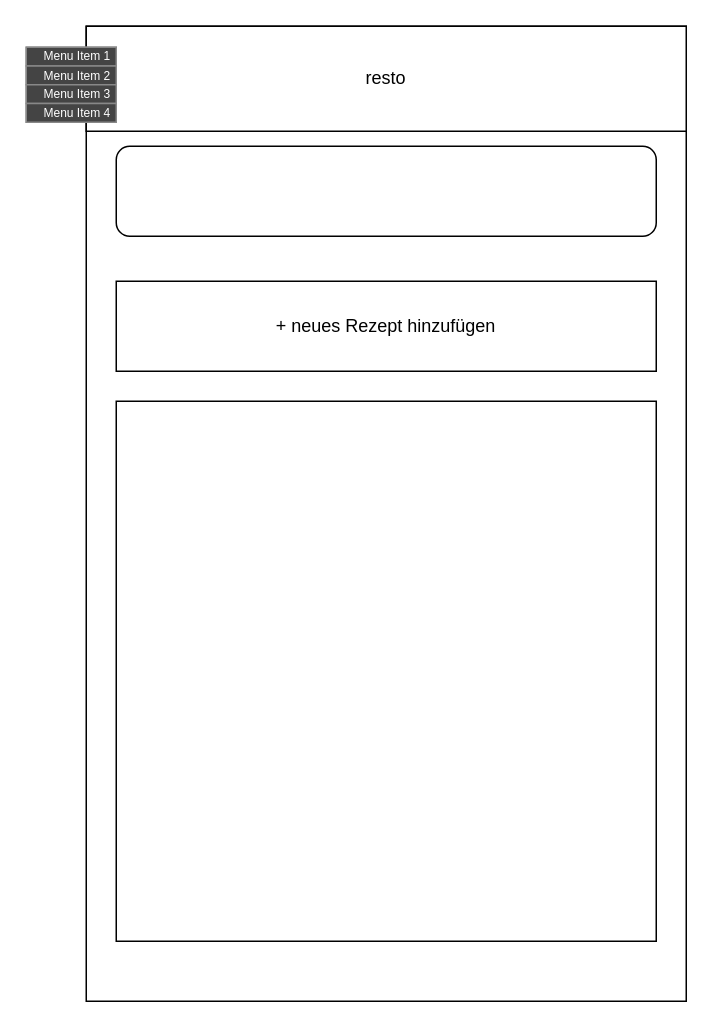
Image size: 713x1028. Some labels were removed from this diagram. The shapes that lost their labels are listed below. From the top down, each one's box as (x1, y1, x2, y2) in pixels, then its label:
(115, 145, 656, 236): Rezepte suchen
(115, 400, 656, 941): Liste empfohlener Rezepte
